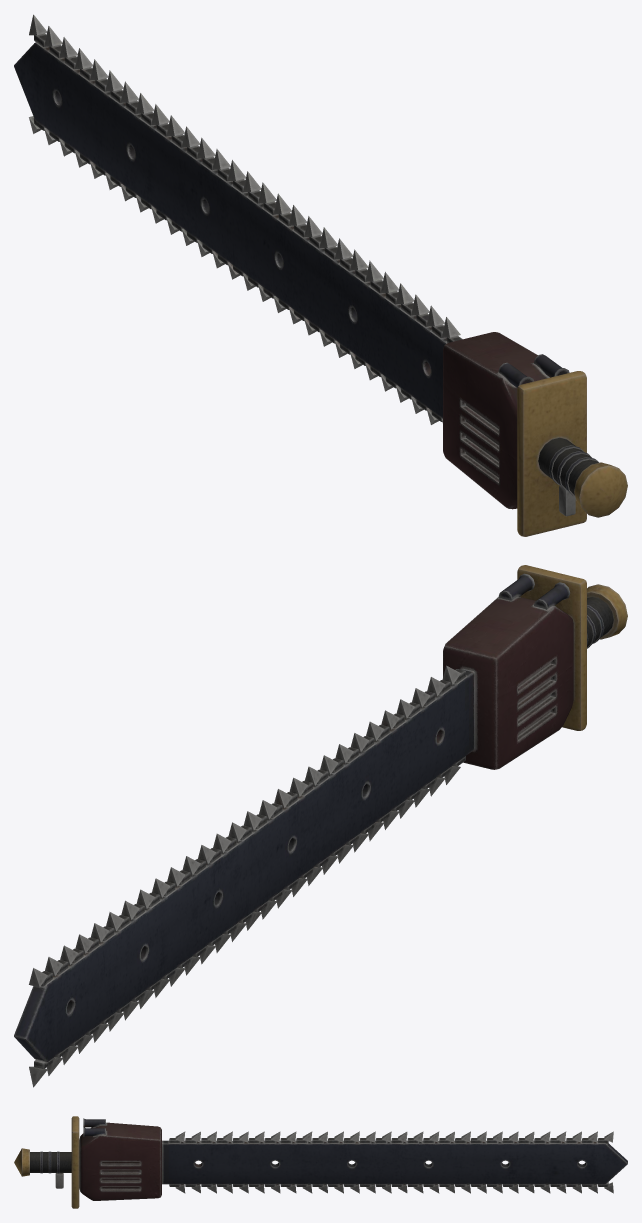
File: explorer_toothsword.glb
3 renders of one model, top to bottom at view 1: azimuth 30°, elevation 25°; view 2: azimuth 150°, elevation 25°; view 3: azimuth 270°, elevation 25°, orthographic. The views are drawn at different scales.
Parts seen in each view (by area): view 1: explorer_toothsword; view 2: explorer_toothsword; view 3: explorer_toothsword.
Part boxes in pixels (x1,y1,x2,y2): explorer_toothsword: (14, 14, 627, 536); explorer_toothsword: (14, 565, 627, 1087); explorer_toothsword: (14, 1116, 627, 1208).
Size of the model in its own units: 0.06 by 0.1301 by 0.9284.
Materials: 1 (1 with a texture image).
